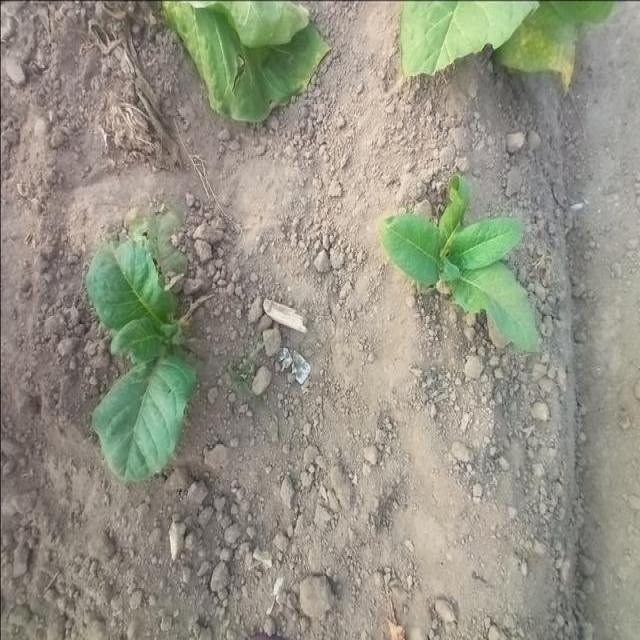crop: (401, 183, 559, 358), (93, 232, 196, 474), (176, 0, 324, 115), (401, 0, 594, 77)
